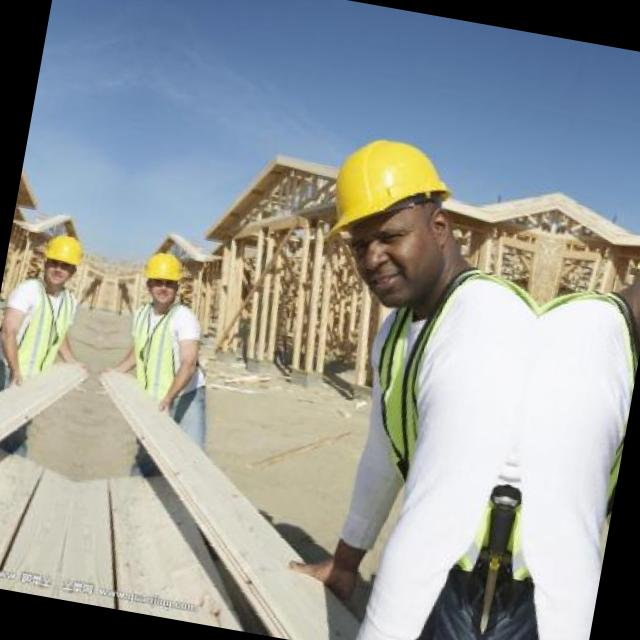helmet: (292, 103, 489, 327), (134, 240, 194, 320), (30, 222, 90, 302)
